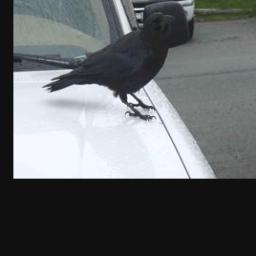Crow: (43, 11, 174, 122)
